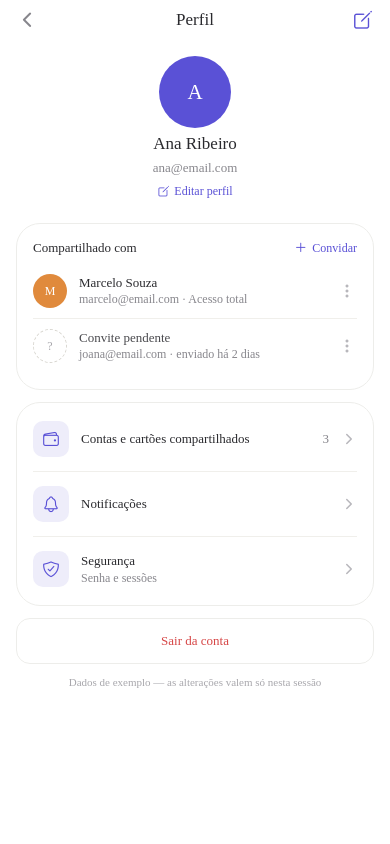
Test case: Perfil › menu de um membro › erro da API vira faixa vermelha
This screenshot has width=390, height=844.
What coordinates should you click on to do the following:
click the button named "Opções de Marcelo Souza"
I would click on:
 (347, 291)
Its box is x1=337 y1=280 x2=357 y2=302.
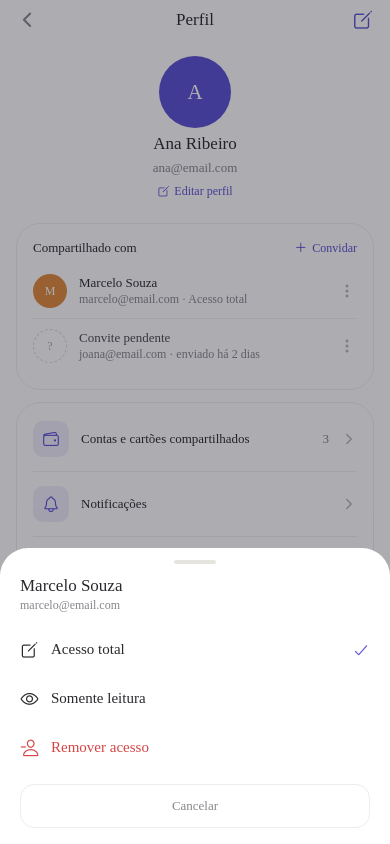
What coordinates should you click on to do the following:
click the text "Somente leitura"
I would click on:
 (98, 698)
Its box is x1=51 y1=690 x2=146 y2=706.
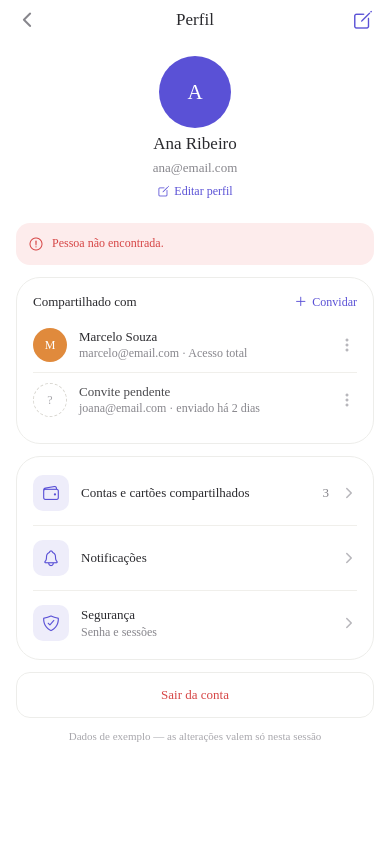
Expected: the text "Pessoa não encontrada." is shown, x1=52 y1=236 x2=164 y2=250
